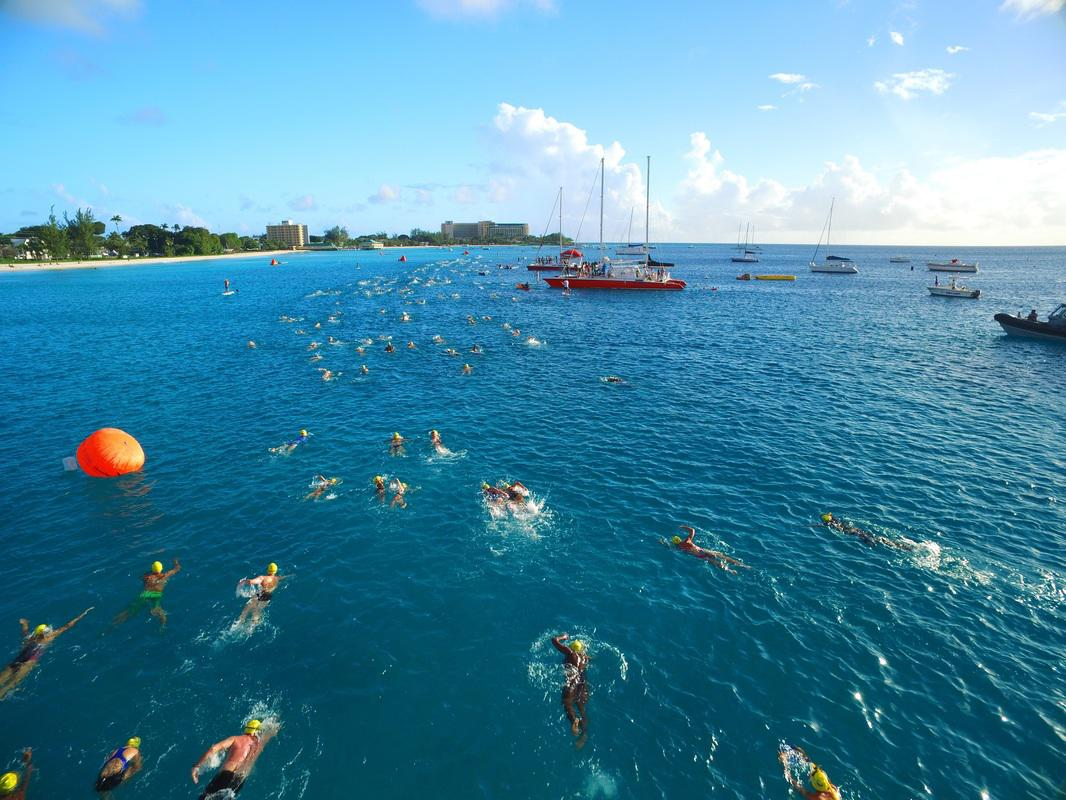swimmer: (0, 603, 110, 709), (198, 714, 276, 798), (552, 626, 595, 746), (229, 558, 285, 644), (774, 742, 847, 798), (98, 728, 144, 796), (138, 556, 180, 628), (667, 520, 730, 568), (825, 511, 896, 550), (0, 744, 43, 798), (302, 471, 340, 503), (272, 429, 311, 458), (386, 471, 409, 512), (388, 428, 404, 464), (426, 428, 445, 452)
